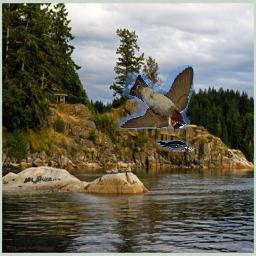Swallow: (120, 65, 195, 129)
Woodpecker: (156, 140, 194, 152)
